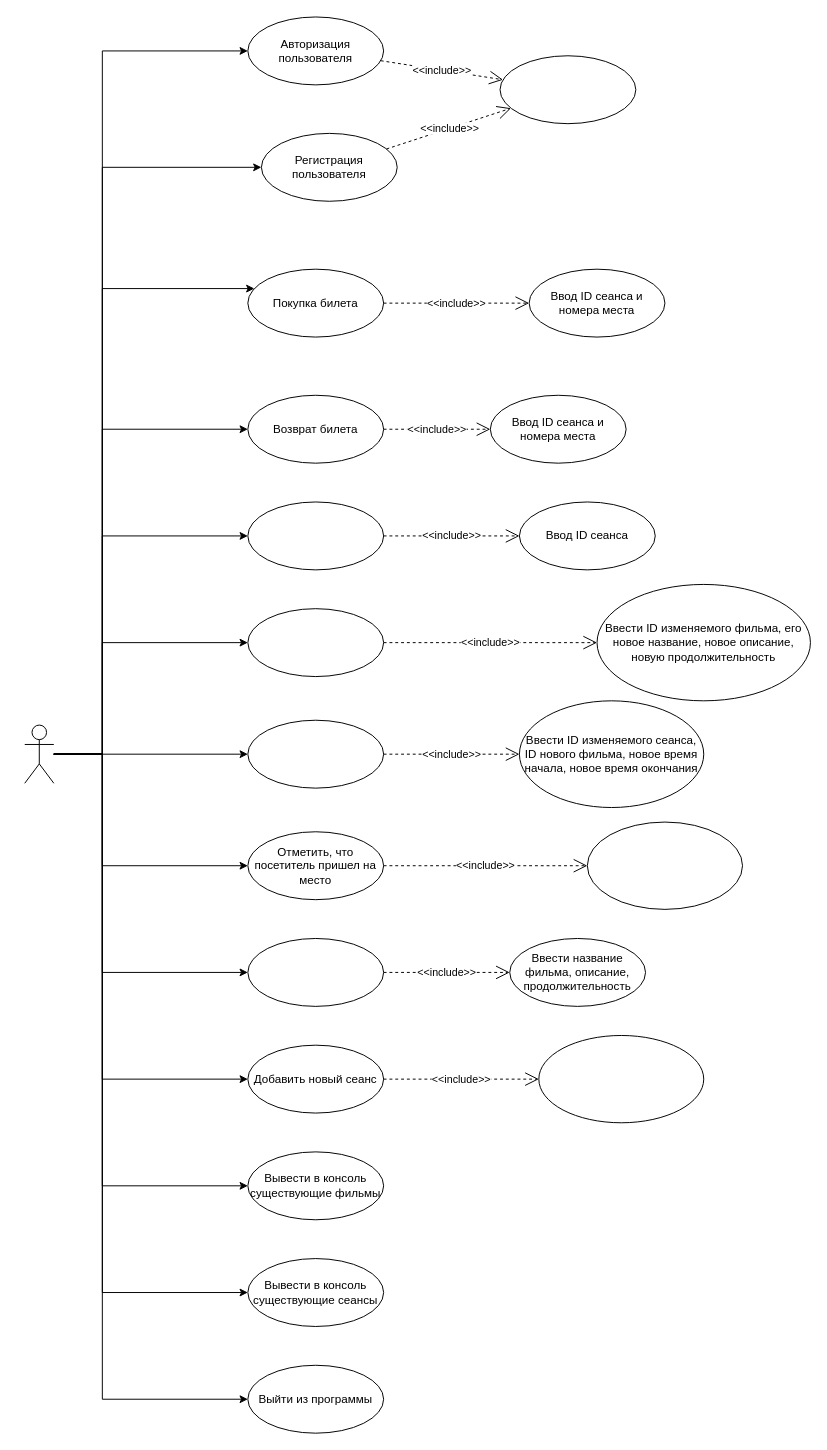
Some shapes in this 827 by 1450 pixel diagram are drawn without their labels. The shapes that lost their labels are listed below. From the top down, each one's centre as x and y in pixels, then its label:
the point at 567,89: Ввод логина и пароля
the point at 315,535: Отображение свободных, купленных и уже занятых мест
the point at 315,642: Изменить информацию о фильме
the point at 39,753: Manager
the point at 315,753: Изменить информацию о сеансе
the point at 664,865: Ввести ID сеанса, номер места
the point at 315,972: Добавить новый фильм
the point at 621,1079: Ввести название фильма, время начала сеанса, время окончания сеанса
